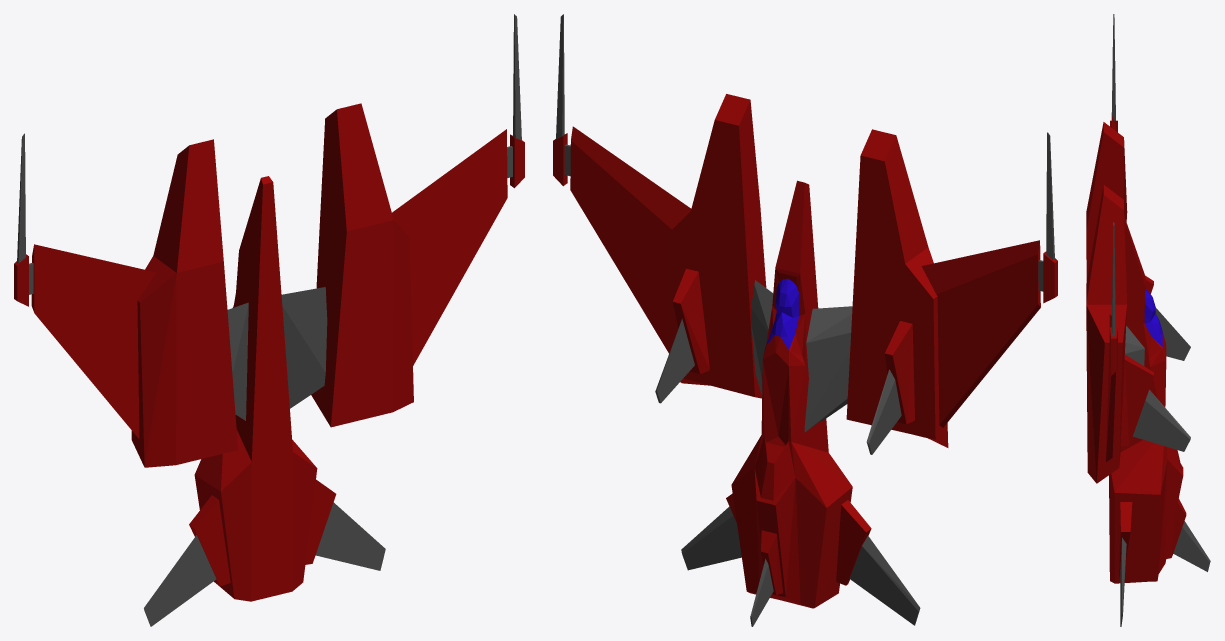
File: Magnetar.fbx
3 renders of one model, left to right at view 1: azimuth 30°, elevation 25°; view 2: azimuth 150°, elevation 25°; view 3: azimuth 270°, elevation 25°, orthographic. The views are drawn at different scales.
Parts seen in each view (by area): view 1: MediumFighter; view 2: MediumFighter; view 3: MediumFighter.
Part boxes in pixels (box(x1,y1,x2,y2)): MediumFighter: box(14, 14, 524, 626); MediumFighter: box(553, 14, 1057, 626); MediumFighter: box(1086, 14, 1210, 626).
Size of the model in its own units: 2256 by 2242 by 550.
